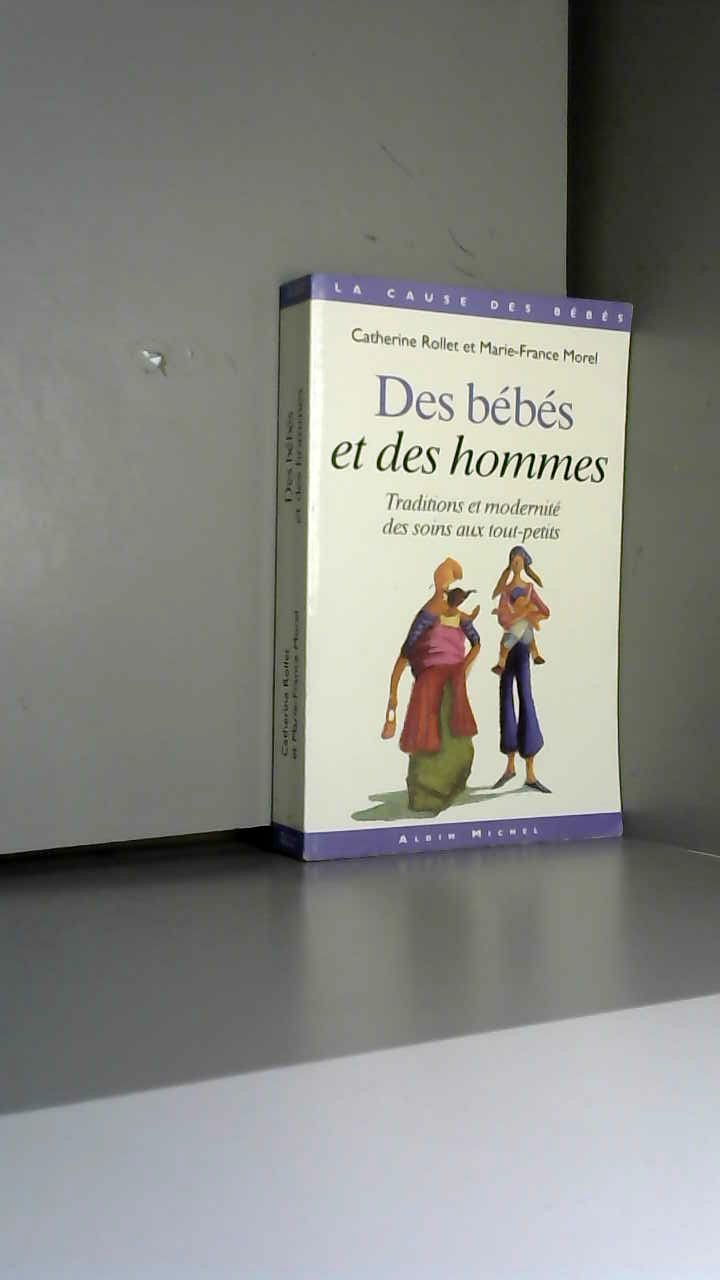book: (240, 250, 718, 944)
